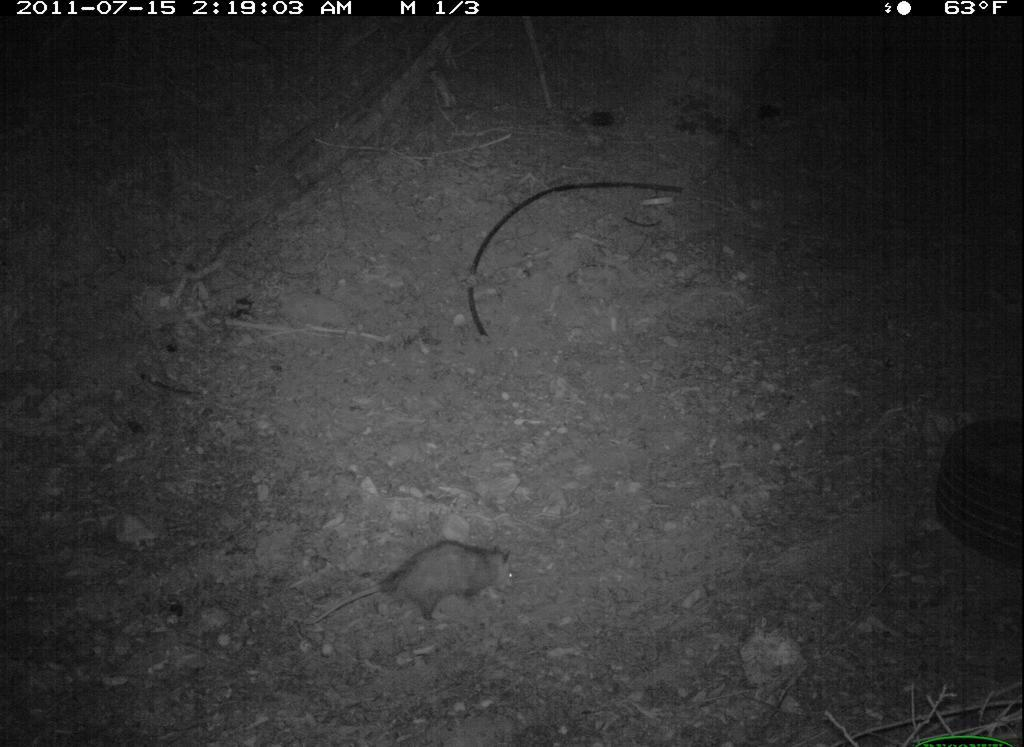opossum: (313, 538, 519, 625)
